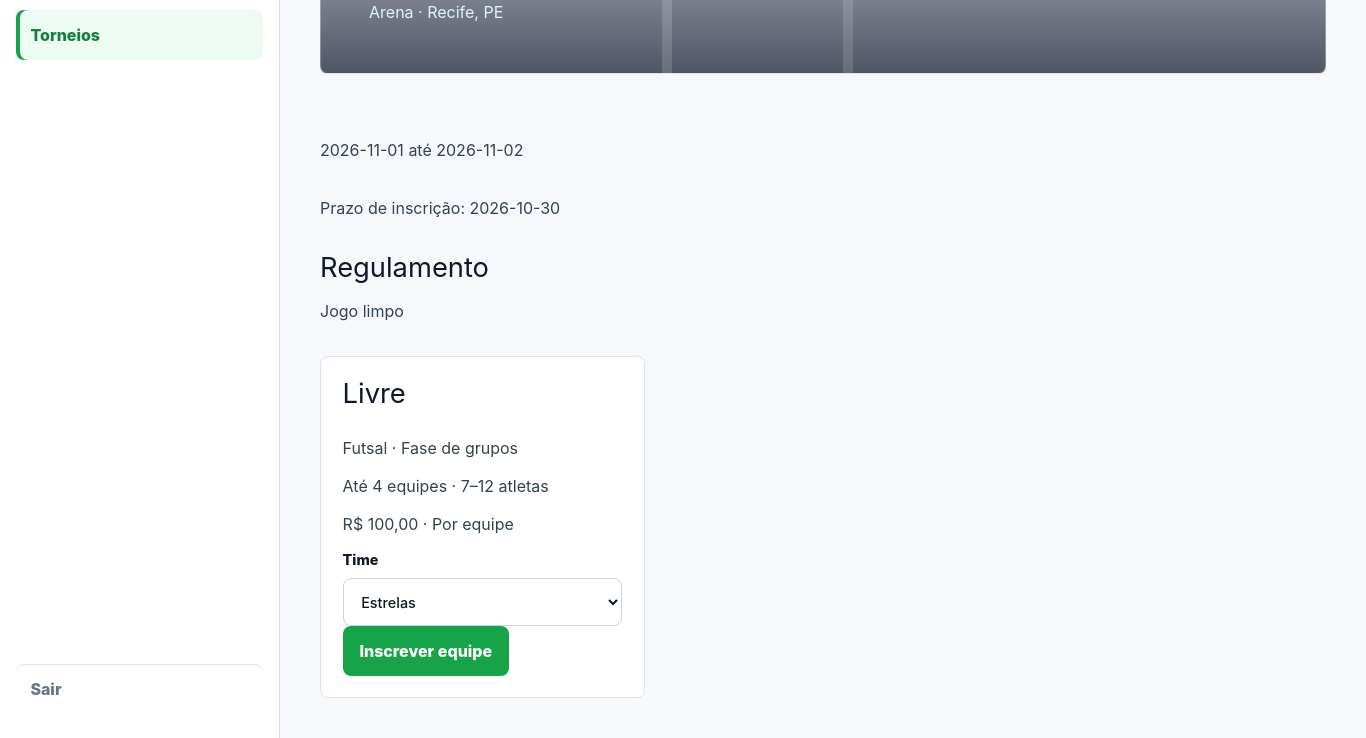
registers an administered team and refreshes registration state
(page scrolled)
Click the button "Inscrever equipe": (426, 651) top-left (343, 626), bottom-right (509, 676)
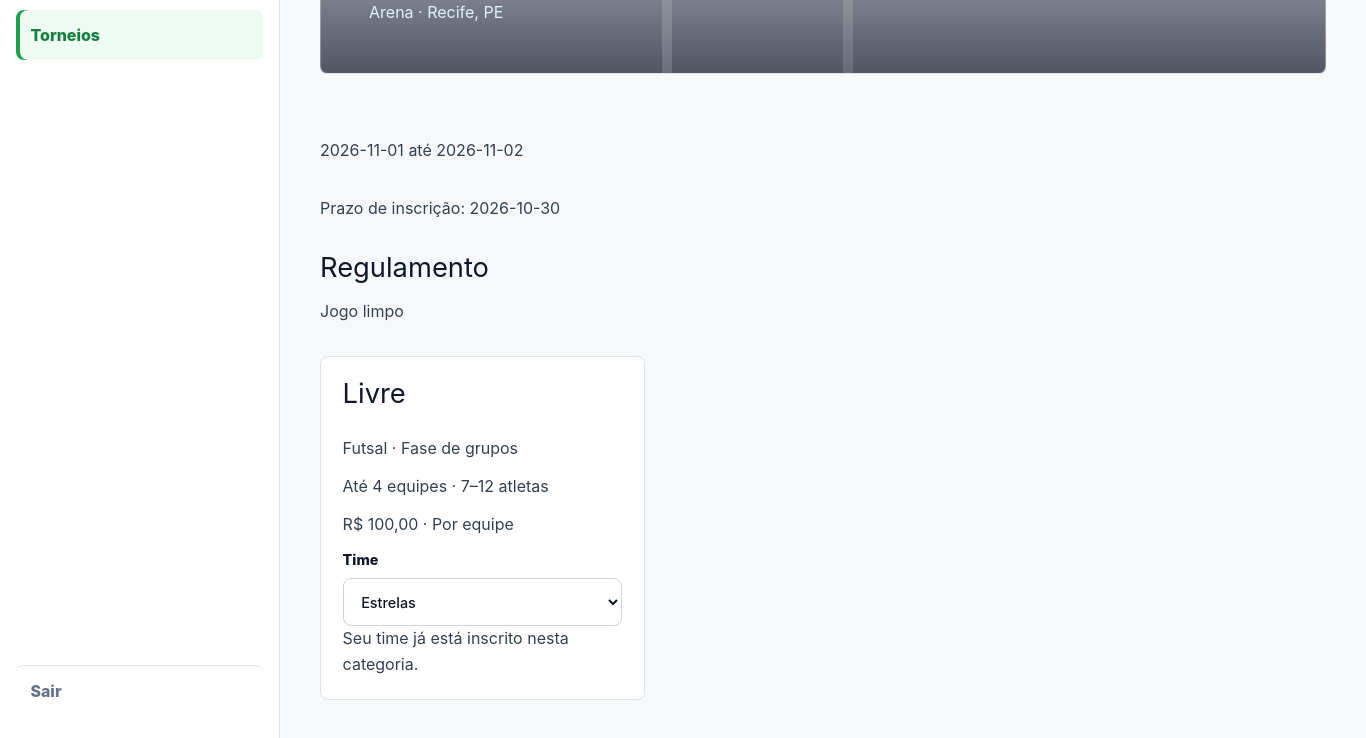
Check: the text "Seu time já está inscrito nesta categoria." is shown, box top-left (343, 628), bottom-right (569, 674)
